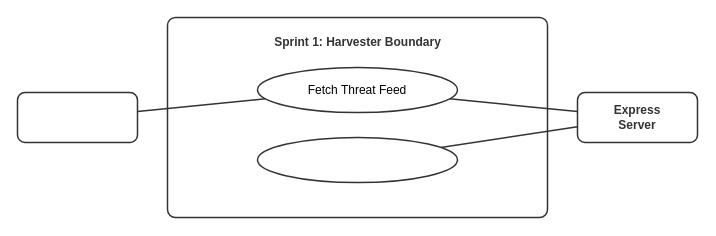
Image size: 716x236. Some labels were removed from this diagram. Each missing label, with the centre of its shape:
"Enrich & Store Payload" belongs at (x=357, y=159).
"External API Feed" belongs at (x=77, y=117).
